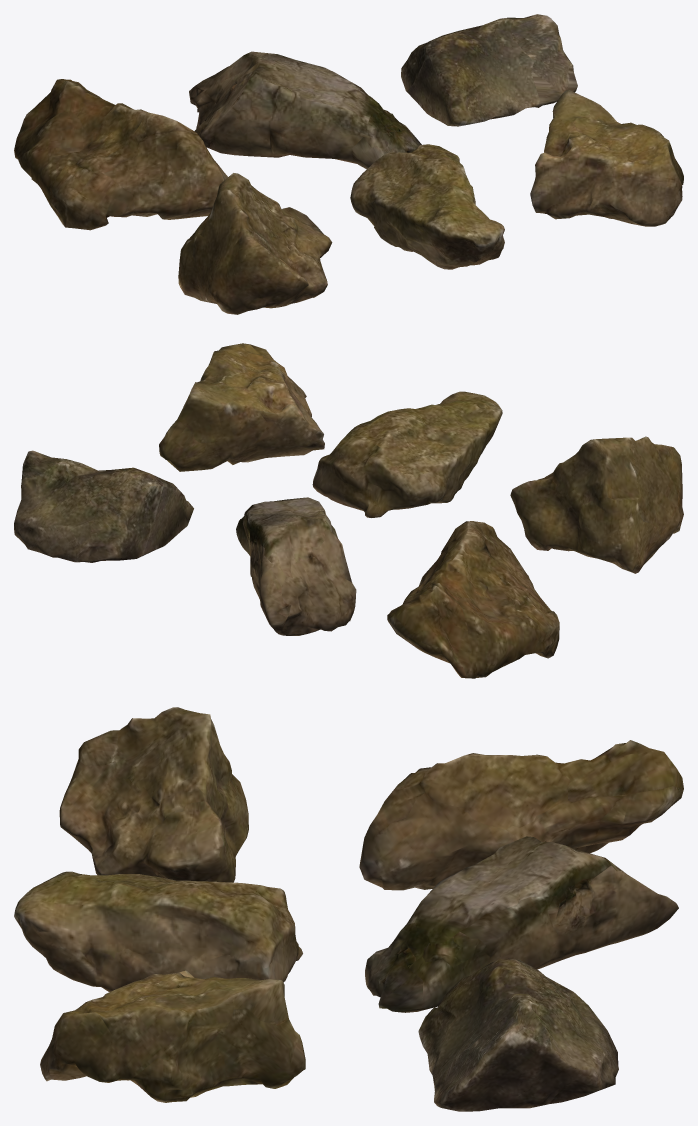
The model's file is rock_moss_set_01-mobile.glb.
The picture shows the model from 3 angles, top to bottom: view 1: azimuth 30°, elevation 25°; view 2: azimuth 150°, elevation 25°; view 3: azimuth 270°, elevation 25°; orthographic projection. The views are drawn at different scales.
Parts seen in each view (by area): view 1: rock_moss_set_01_rock01, rock_moss_set_01_rock02, rock_moss_set_01_rock06, rock_moss_set_01_rock04, rock_moss_set_01_rock03, rock_moss_set_01_rock05; view 2: rock_moss_set_01_rock04, rock_moss_set_01_rock01, rock_moss_set_01_rock05, rock_moss_set_01_rock03, rock_moss_set_01_rock06, rock_moss_set_01_rock02; view 3: rock_moss_set_01_rock01, rock_moss_set_01_rock02, rock_moss_set_01_rock05, rock_moss_set_01_rock04, rock_moss_set_01_rock06, rock_moss_set_01_rock03.
Boxes of the visible parts, x1=… form: rock_moss_set_01_rock01: x1=14, y1=79, x2=227, y2=230; rock_moss_set_01_rock02: x1=189, y1=51, x2=421, y2=169; rock_moss_set_01_rock06: x1=530, y1=89, x2=683, y2=226; rock_moss_set_01_rock04: x1=178, y1=173, x2=332, y2=314; rock_moss_set_01_rock03: x1=401, y1=14, x2=577, y2=126; rock_moss_set_01_rock05: x1=350, y1=144, x2=504, y2=269; rock_moss_set_01_rock04: x1=510, y1=436, x2=683, y2=573; rock_moss_set_01_rock01: x1=387, y1=521, x2=559, y2=678; rock_moss_set_01_rock05: x1=312, y1=391, x2=502, y2=517; rock_moss_set_01_rock03: x1=14, y1=450, x2=193, y2=562; rock_moss_set_01_rock06: x1=159, y1=343, x2=324, y2=471; rock_moss_set_01_rock02: x1=236, y1=497, x2=356, y2=635; rock_moss_set_01_rock01: x1=359, y1=740, x2=683, y2=890; rock_moss_set_01_rock02: x1=365, y1=836, x2=678, y2=1012; rock_moss_set_01_rock05: x1=14, y1=871, x2=302, y2=991; rock_moss_set_01_rock04: x1=59, y1=707, x2=248, y2=882; rock_moss_set_01_rock06: x1=40, y1=970, x2=305, y2=1102; rock_moss_set_01_rock03: x1=418, y1=958, x2=618, y2=1111.
Bounding box in the file's own units: 8 × 1.76 × 6.94.
1 material, 1 textured.
